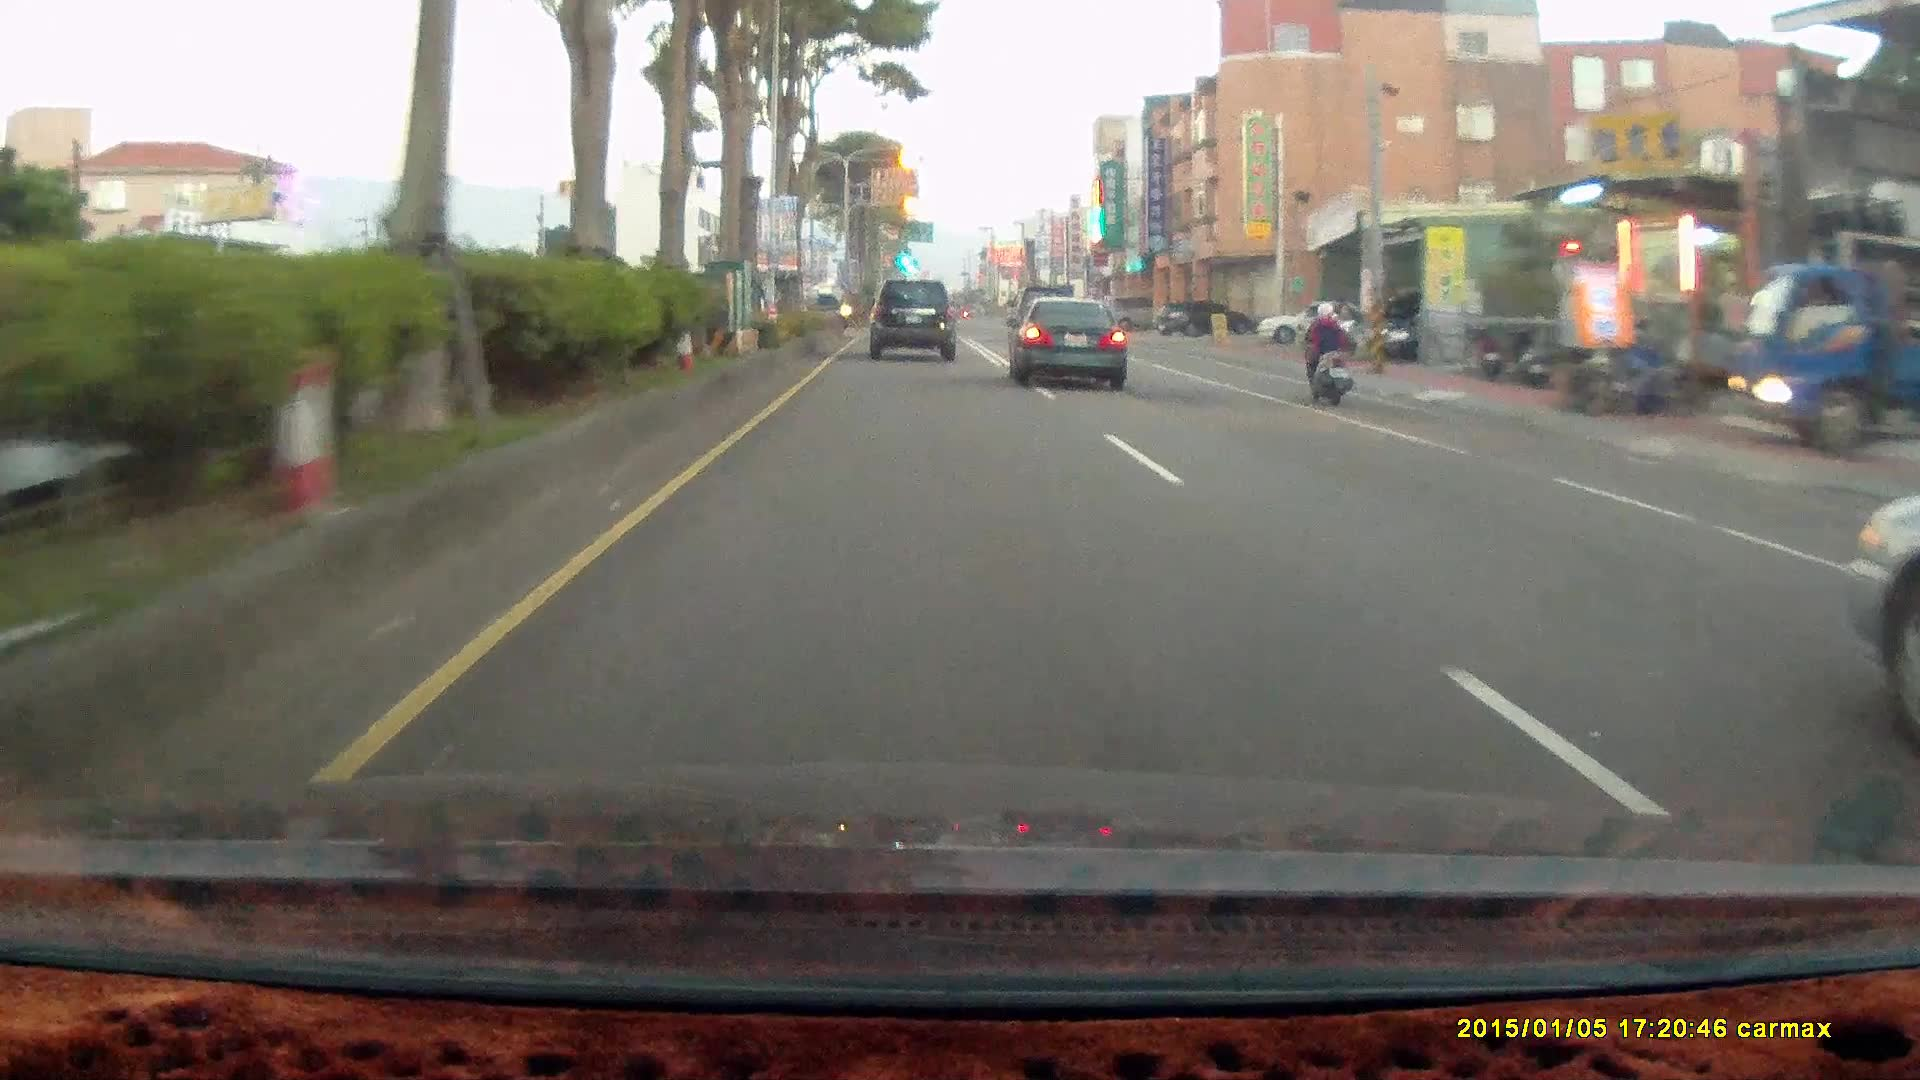rider: (1293, 290, 1365, 415), (1293, 297, 1352, 402)
vehicle: (1726, 259, 1920, 458), (1726, 258, 1920, 456), (1842, 487, 1920, 767), (1012, 294, 1135, 391), (1006, 292, 1129, 385), (1376, 298, 1500, 362), (872, 276, 959, 362), (868, 276, 954, 359), (1257, 298, 1379, 345), (1158, 297, 1251, 342), (1153, 299, 1248, 338), (1103, 292, 1175, 329)
